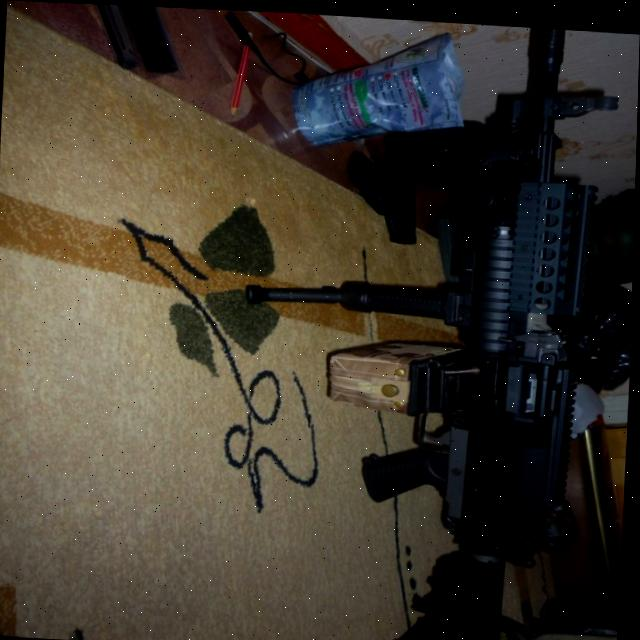firearm: (224, 8, 621, 640)
